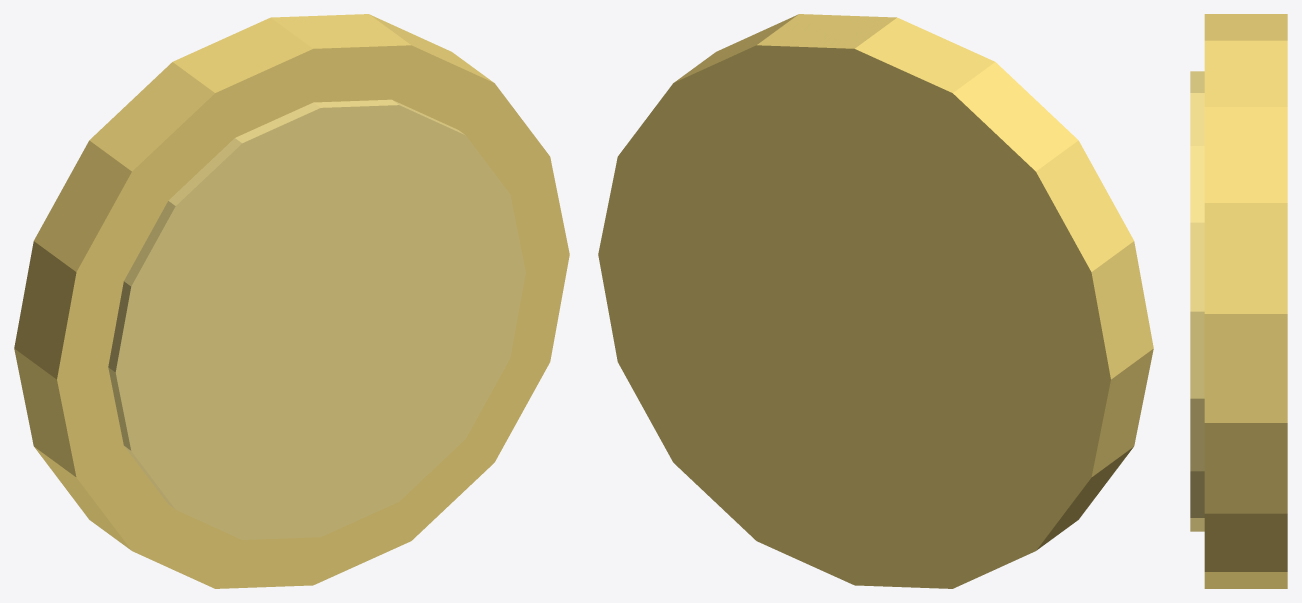
Rendered from 28_star_coin.glb.
3 views of the same model, side by side, from view 1: azimuth 30°, elevation 25°; view 2: azimuth 150°, elevation 25°; view 3: azimuth 270°, elevation 25° (orthographic). The views are drawn at different scales.
Parts seen in each view (by area): view 1: 28_star_coin; view 2: 28_star_coin; view 3: 28_star_coin.
Part boxes in pixels (<box>): 28_star_coin: <box>14,14,569,588</box>; 28_star_coin: <box>598,14,1153,588</box>; 28_star_coin: <box>1190,14,1287,588</box>.
Size of the model in its own units: 0.9 by 0.9 by 0.165.
